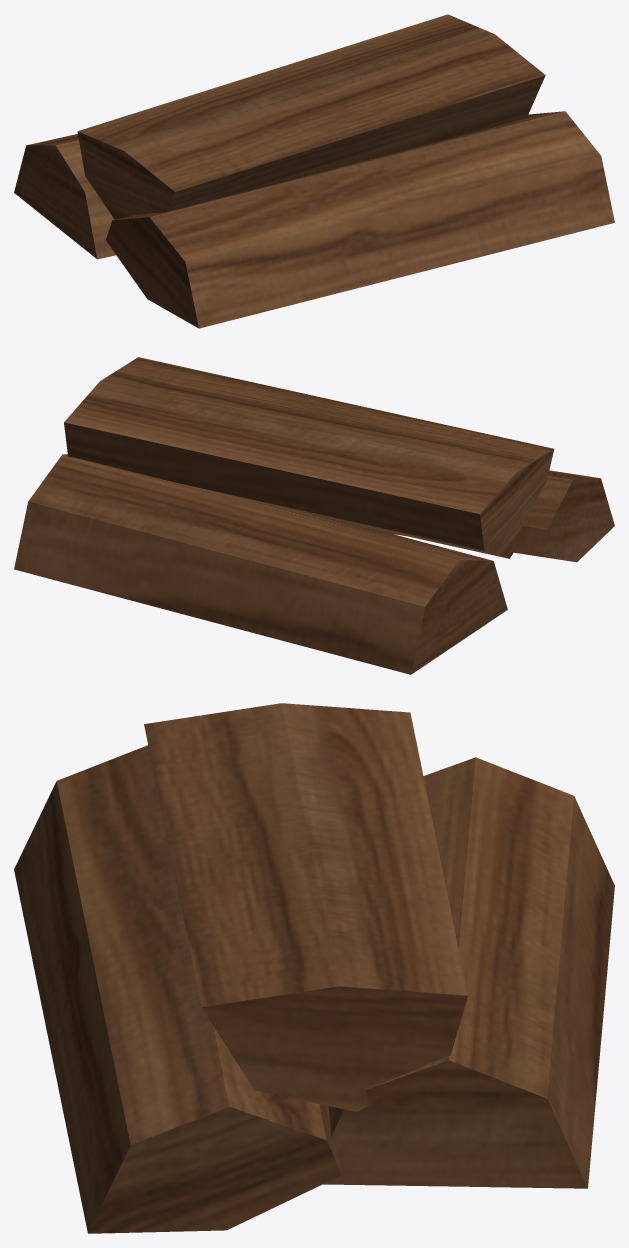
File: LenhaLareira.fbx
The picture shows the model from 3 angles, top to bottom: view 1: azimuth 30°, elevation 25°; view 2: azimuth 150°, elevation 25°; view 3: azimuth 270°, elevation 25°; orthographic projection. The views are drawn at different scales.
Parts seen in each view (by area): view 1: Logs; view 2: Logs; view 3: Logs.
Boxes of the visible parts, x1=… form: Logs: x1=14, y1=14, x2=614, y2=328; Logs: x1=14, y1=357, x2=614, y2=674; Logs: x1=14, y1=703, x2=614, y2=1233.
Bounding box in the file's own units: 1.45 × 1.07 × 0.4318.
